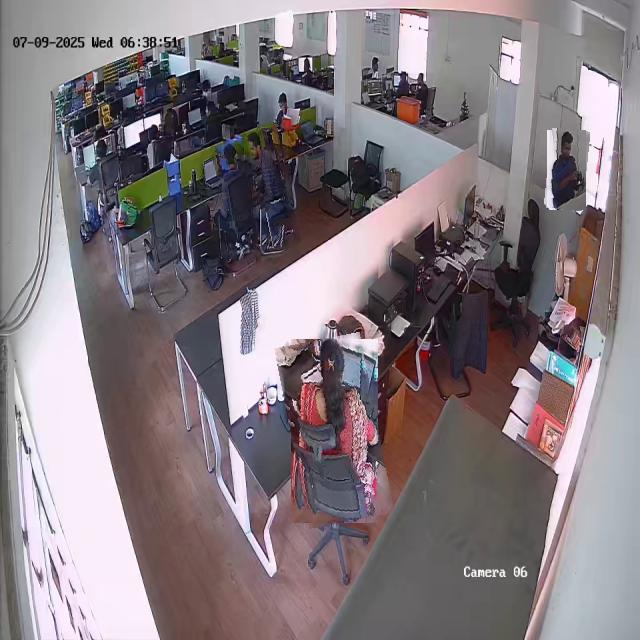person: (283, 336, 386, 526), (250, 127, 295, 248), (216, 142, 256, 261), (545, 129, 588, 211), (268, 92, 293, 124)
